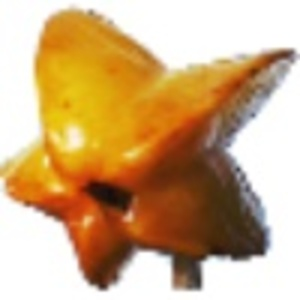carambola: (1, 5, 300, 293)
